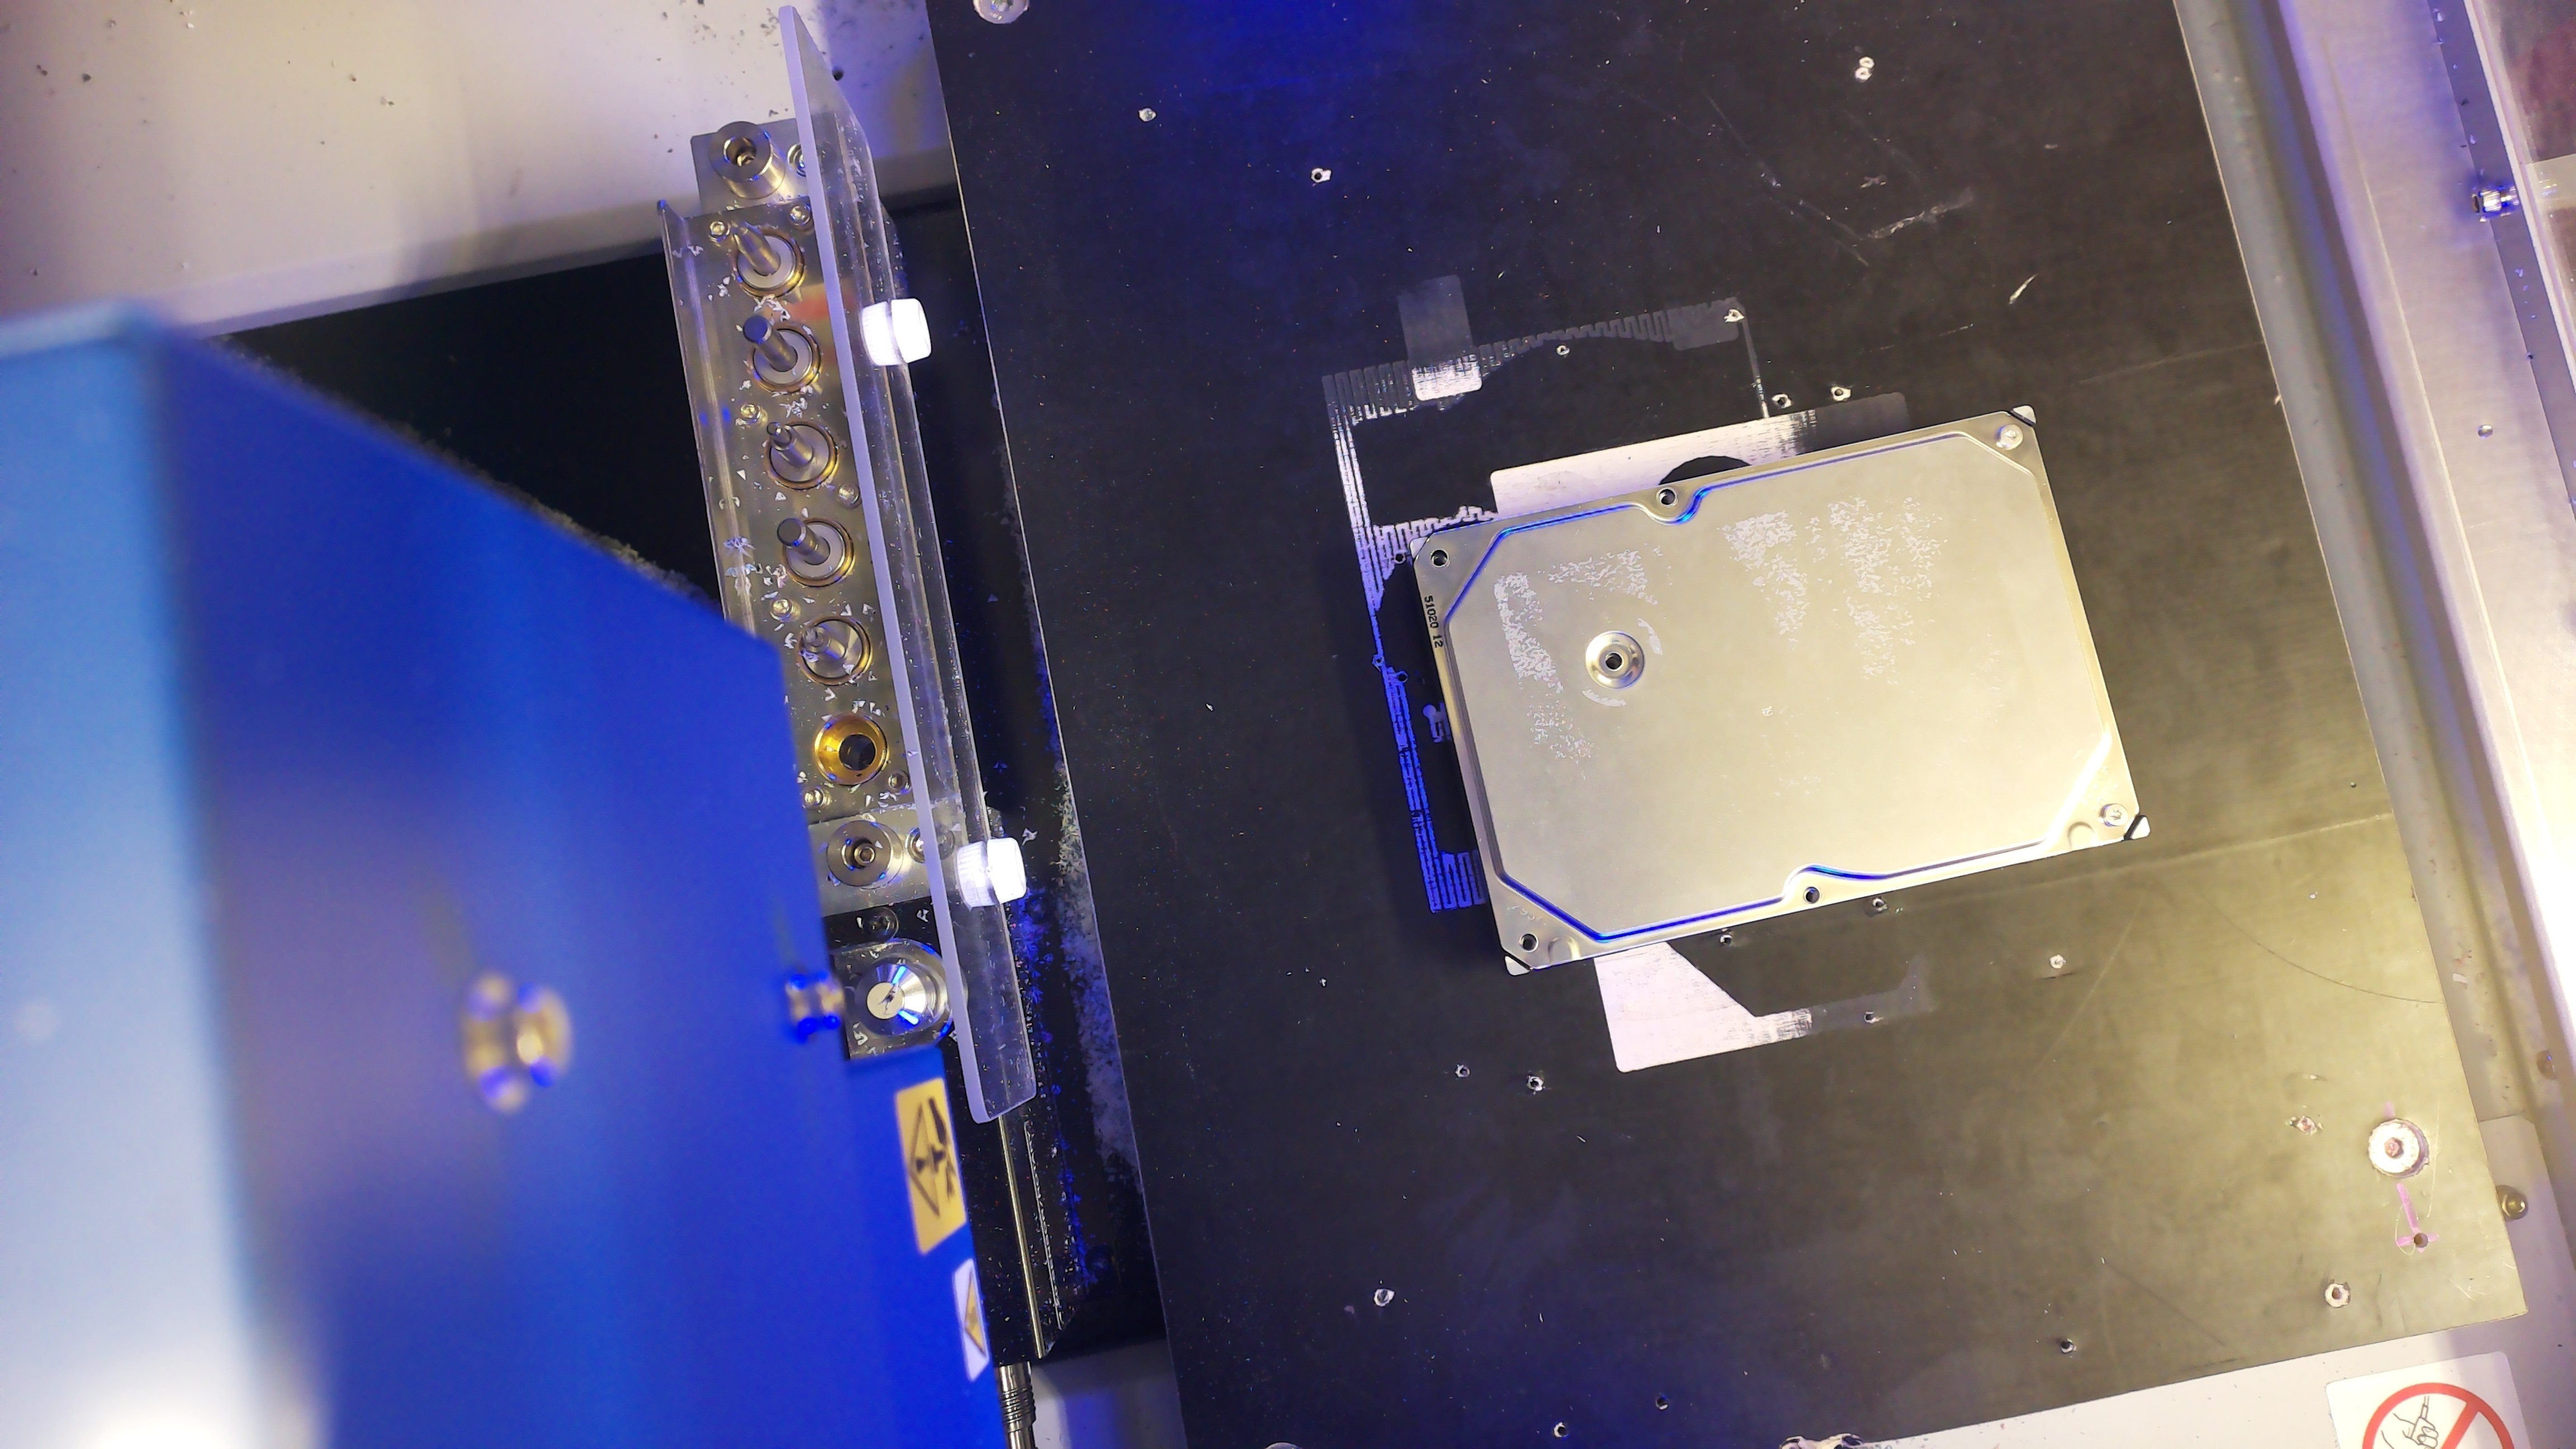Hole: (1603, 649, 1625, 672), (1656, 487, 1677, 507), (1518, 932, 1538, 954), (1429, 548, 1448, 568), (1803, 885, 1821, 905)
Screw: (2101, 802, 2128, 827), (1997, 424, 2023, 448)
